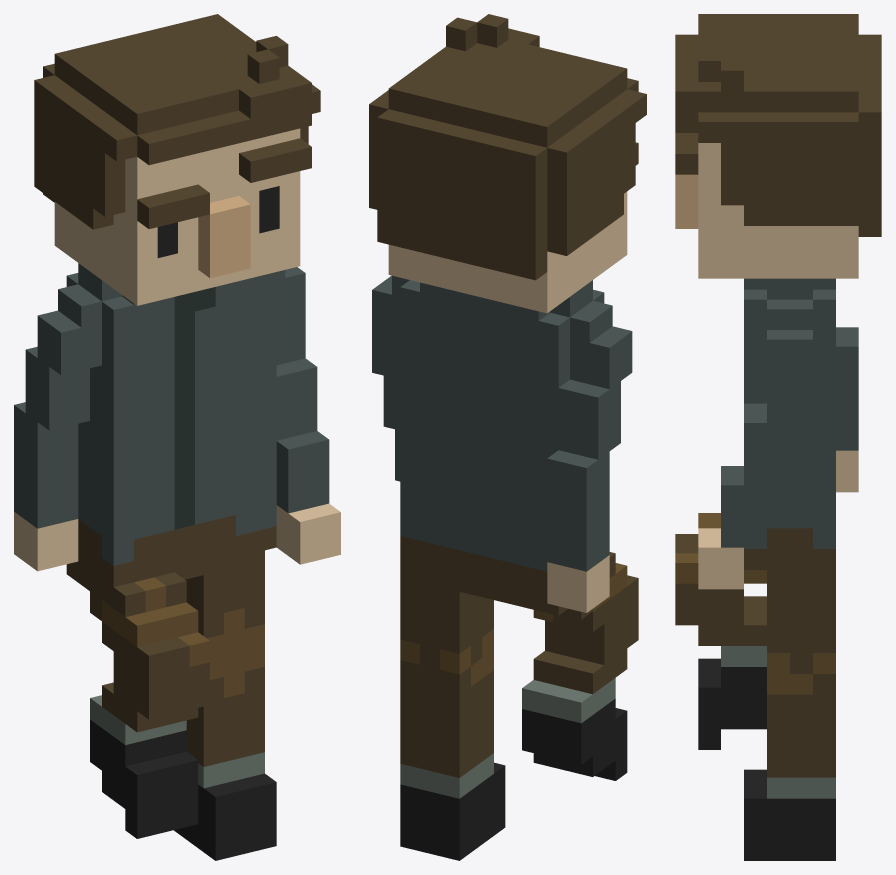
The model's file is WalkAnim1-9.obj.
The picture shows the model from 3 angles, left to right: view 1: azimuth 30°, elevation 25°; view 2: azimuth 150°, elevation 25°; view 3: azimuth 270°, elevation 25°; orthographic projection. The views are drawn at different scales.
Parts seen in each view (by area): view 1: WalkAnim1-9; view 2: WalkAnim1-9; view 3: WalkAnim1-9.
Boxes of the visible parts, box(x1,y1,x2,y2) form: WalkAnim1-9: box(14, 14, 340, 860); WalkAnim1-9: box(369, 14, 646, 860); WalkAnim1-9: box(675, 14, 881, 860).
Bounding box in the file's own units: 12 × 38 × 9.
1 material, 1 textured.
